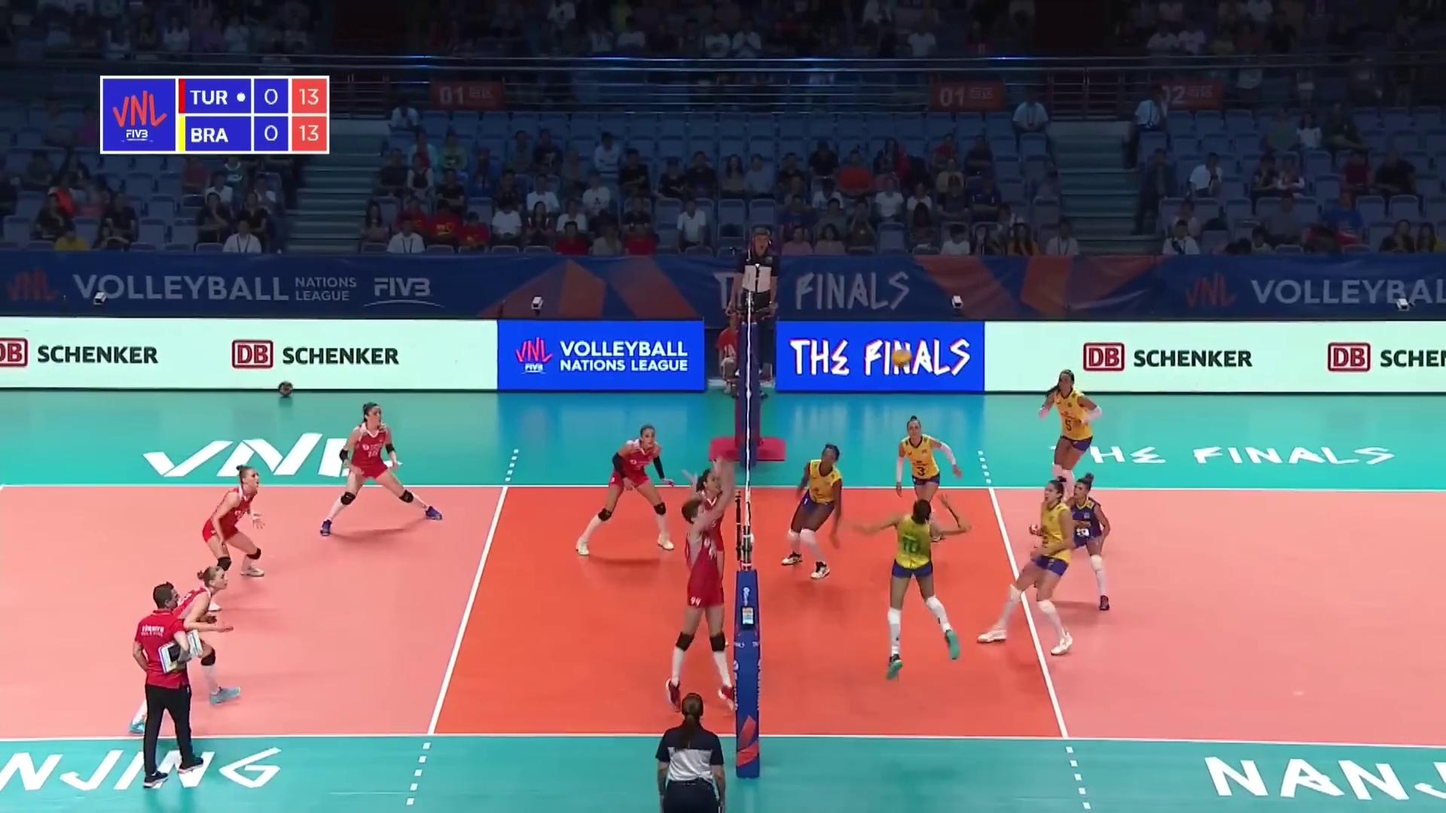player: (130, 567, 243, 733), (975, 476, 1075, 652), (861, 498, 964, 664), (667, 470, 735, 708), (324, 404, 445, 535), (577, 422, 676, 554), (1034, 370, 1101, 525), (1040, 476, 1112, 610), (203, 466, 267, 610), (685, 462, 731, 651), (894, 415, 961, 542), (783, 440, 845, 577)
refree: (655, 689, 729, 813), (728, 228, 778, 382)
